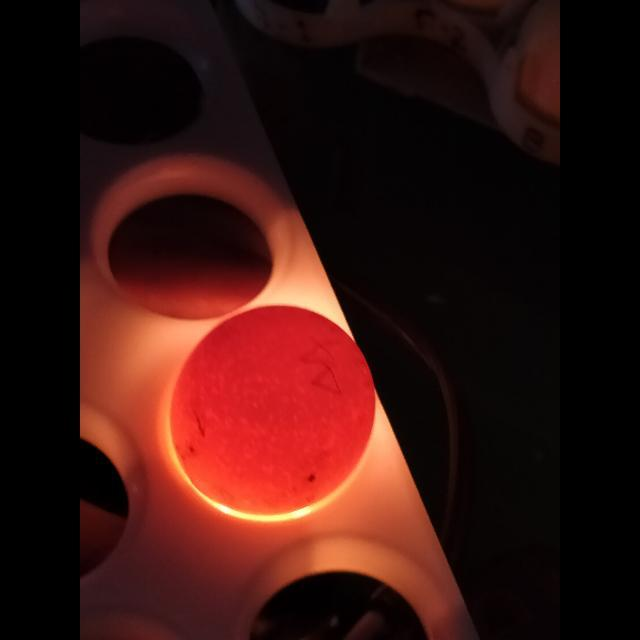Infertile: (170, 302, 368, 510)
